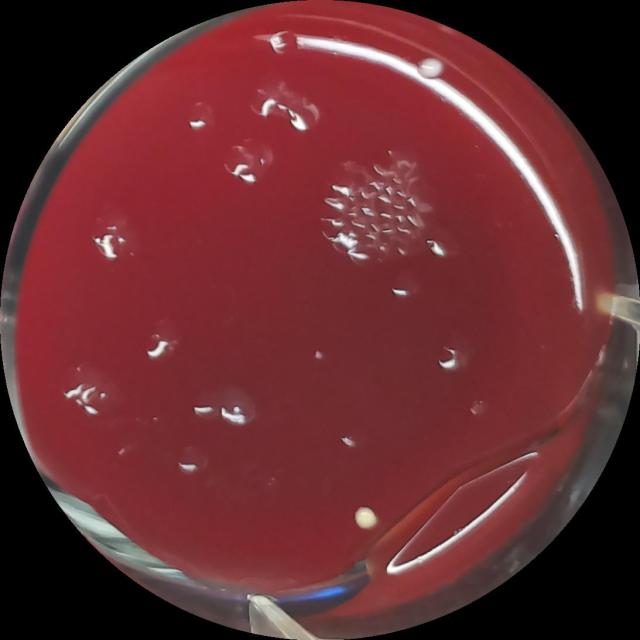Staphylococcus: (352, 503, 382, 533)
